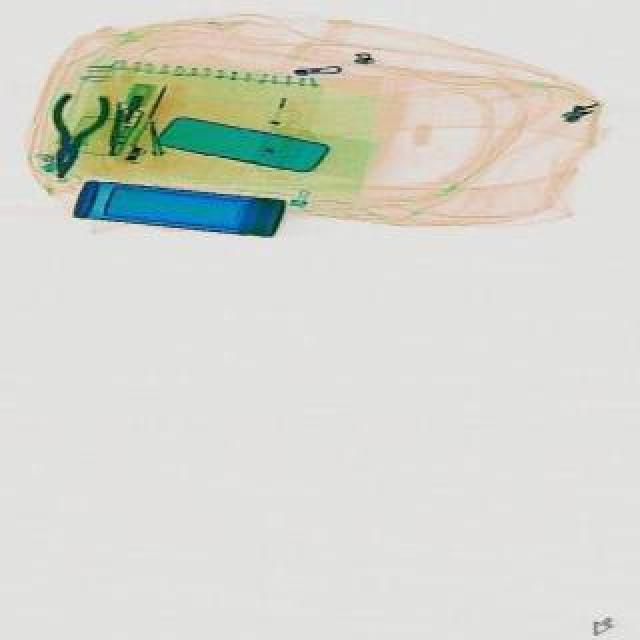wrench: (32, 86, 110, 186)
